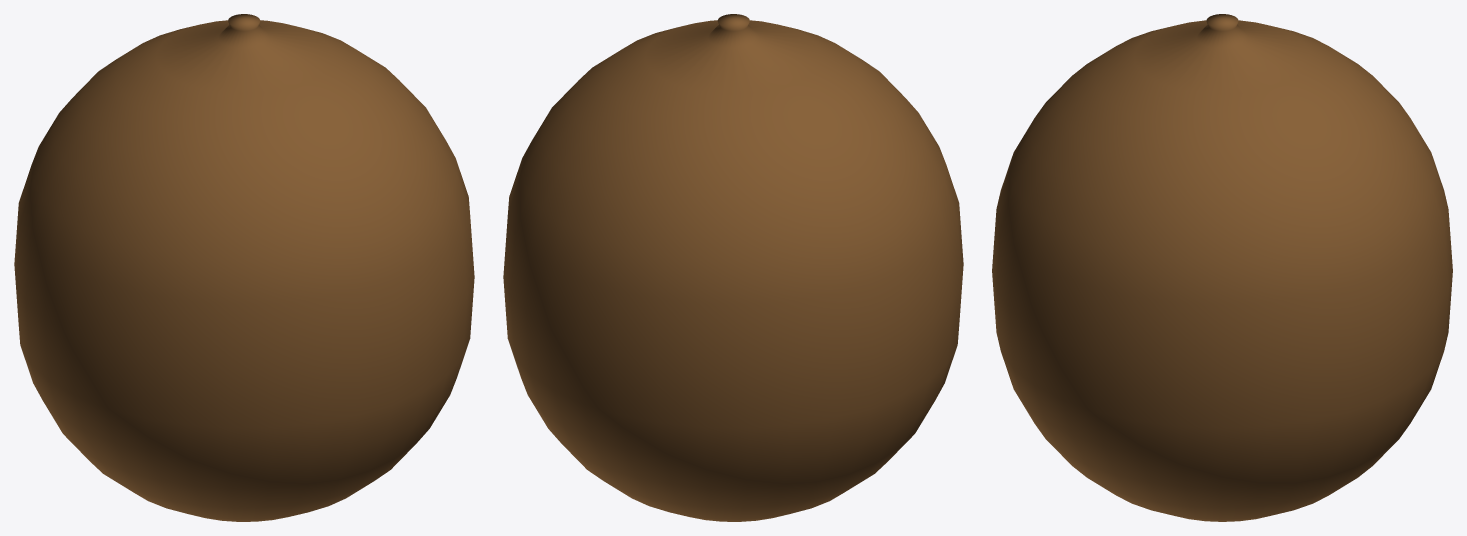
Rendered from Fruit_Kiwi.fbx.
3 views of the same model, side by side, from view 1: azimuth 30°, elevation 25°; view 2: azimuth 150°, elevation 25°; view 3: azimuth 270°, elevation 25° (orthographic).
Parts seen in each view (by area): view 1: Kiwi; view 2: Kiwi; view 3: Kiwi.
Boxes of the visible parts, <box> form: Kiwi: <box>14,14,474,521</box>; Kiwi: <box>503,14,963,521</box>; Kiwi: <box>992,14,1452,521</box>.
Size of the model in its own units: 92.2 by 106 by 92.2.
